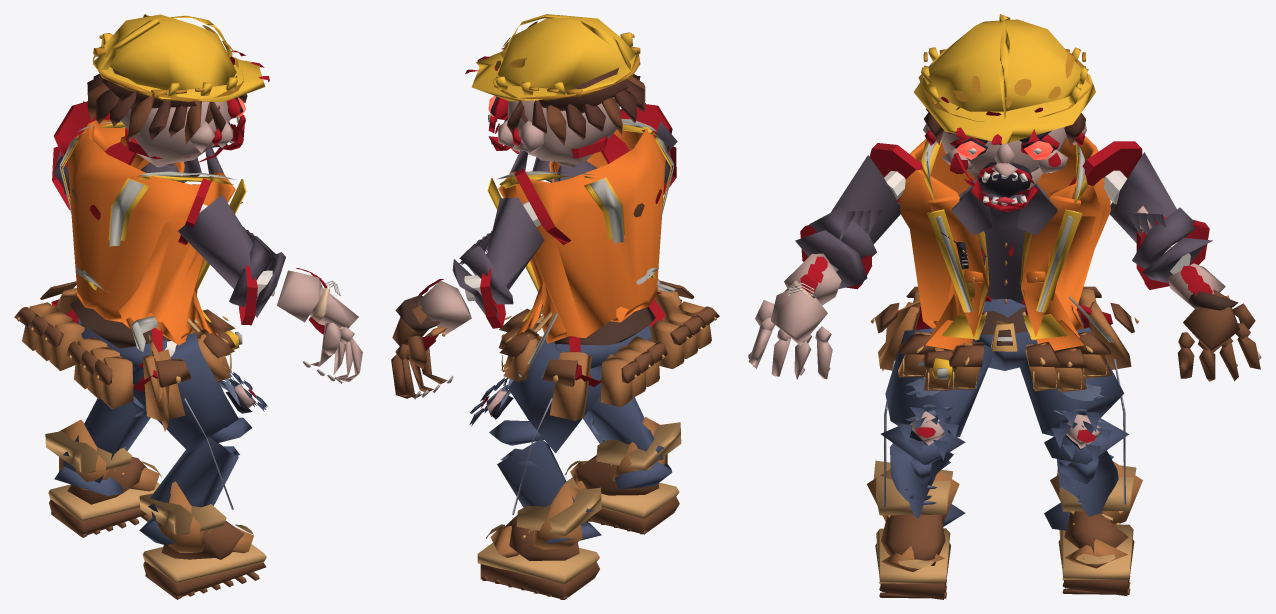
Rendered from inf.construction-worker.lod1.glb.
3 views of the same model, side by side, from view 1: azimuth 30°, elevation 25°; view 2: azimuth 150°, elevation 25°; view 3: azimuth 270°, elevation 25° (orthographic). The views are drawn at different scales.
Visible parts, largest first — view 1: torso, head, hip, footR, footL, legR, shinR, armR, foreArmR, shinL, handR, stump_armL (+3 smaller); view 2: torso, head, hip, footL, footR, legL, shinL, handL, foreArmL, armL, shinR, stump_armR (+2 smaller); view 3: torso, head, hip, footR, footL, legR, legL, foreArmR, handL, handR, foreArmL, shinL (+6 smaller).
Part boxes in pixels (box(x1,y1,x2,y2)): torso: box(60, 119, 246, 345); head: box(87, 14, 269, 167); hip: box(14, 281, 242, 431); footR: box(139, 481, 266, 599); footL: box(45, 419, 161, 537); legR: box(132, 332, 267, 509); shinR: box(139, 417, 252, 545); armR: box(178, 194, 277, 288); foreArmR: box(229, 239, 340, 322); shinL: box(54, 396, 150, 495); handR: box(303, 287, 362, 383); stump_armL: box(53, 101, 136, 169); torso: box(487, 118, 673, 343); head: box(465, 14, 645, 168); hip: box(499, 278, 719, 420); footL: box(477, 482, 601, 599); footR: box(565, 417, 681, 534); legL: box(469, 338, 601, 515); shinL: box(489, 420, 601, 543); handL: box(391, 295, 453, 399); foreArmL: box(415, 244, 513, 334); armL: box(459, 197, 544, 289); shinR: box(583, 397, 672, 489); stump_armR: box(601, 104, 672, 163); torso: box(899, 136, 1110, 350); head: box(913, 14, 1095, 211); hip: box(870, 286, 1138, 392); footR: box(867, 460, 959, 599); footL: box(1050, 461, 1142, 595); legR: box(883, 328, 994, 507); legL: box(1018, 327, 1125, 504); foreArmR: box(784, 208, 876, 305); handL: box(1177, 289, 1261, 381); handR: box(748, 287, 832, 379); foreArmL: box(1132, 207, 1225, 309); shinL: box(1044, 417, 1128, 530).
Bounding box in the file's own units: 0.6009 × 1.5 × 1.26.
